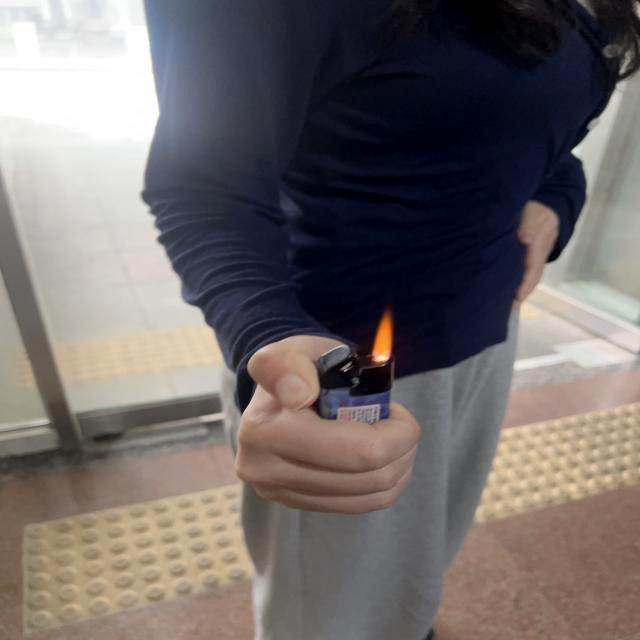fire: (368, 308, 392, 364)
